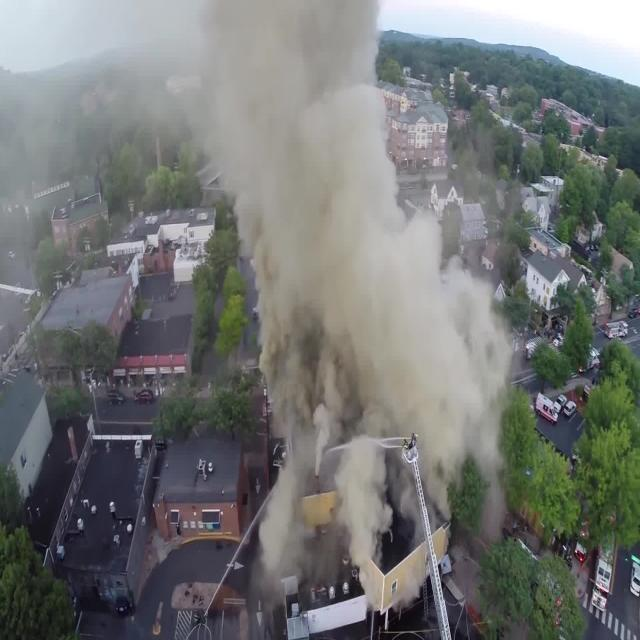Smoke: (217, 0, 542, 593), (231, 27, 444, 461)
